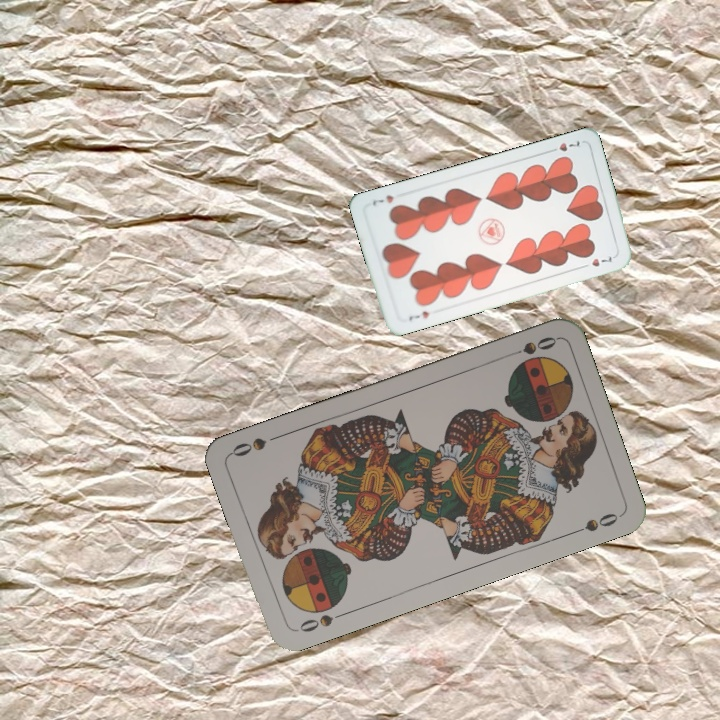H7: (545, 137, 583, 155), (405, 307, 431, 323)
SO: (501, 332, 560, 360), (291, 608, 349, 635)
